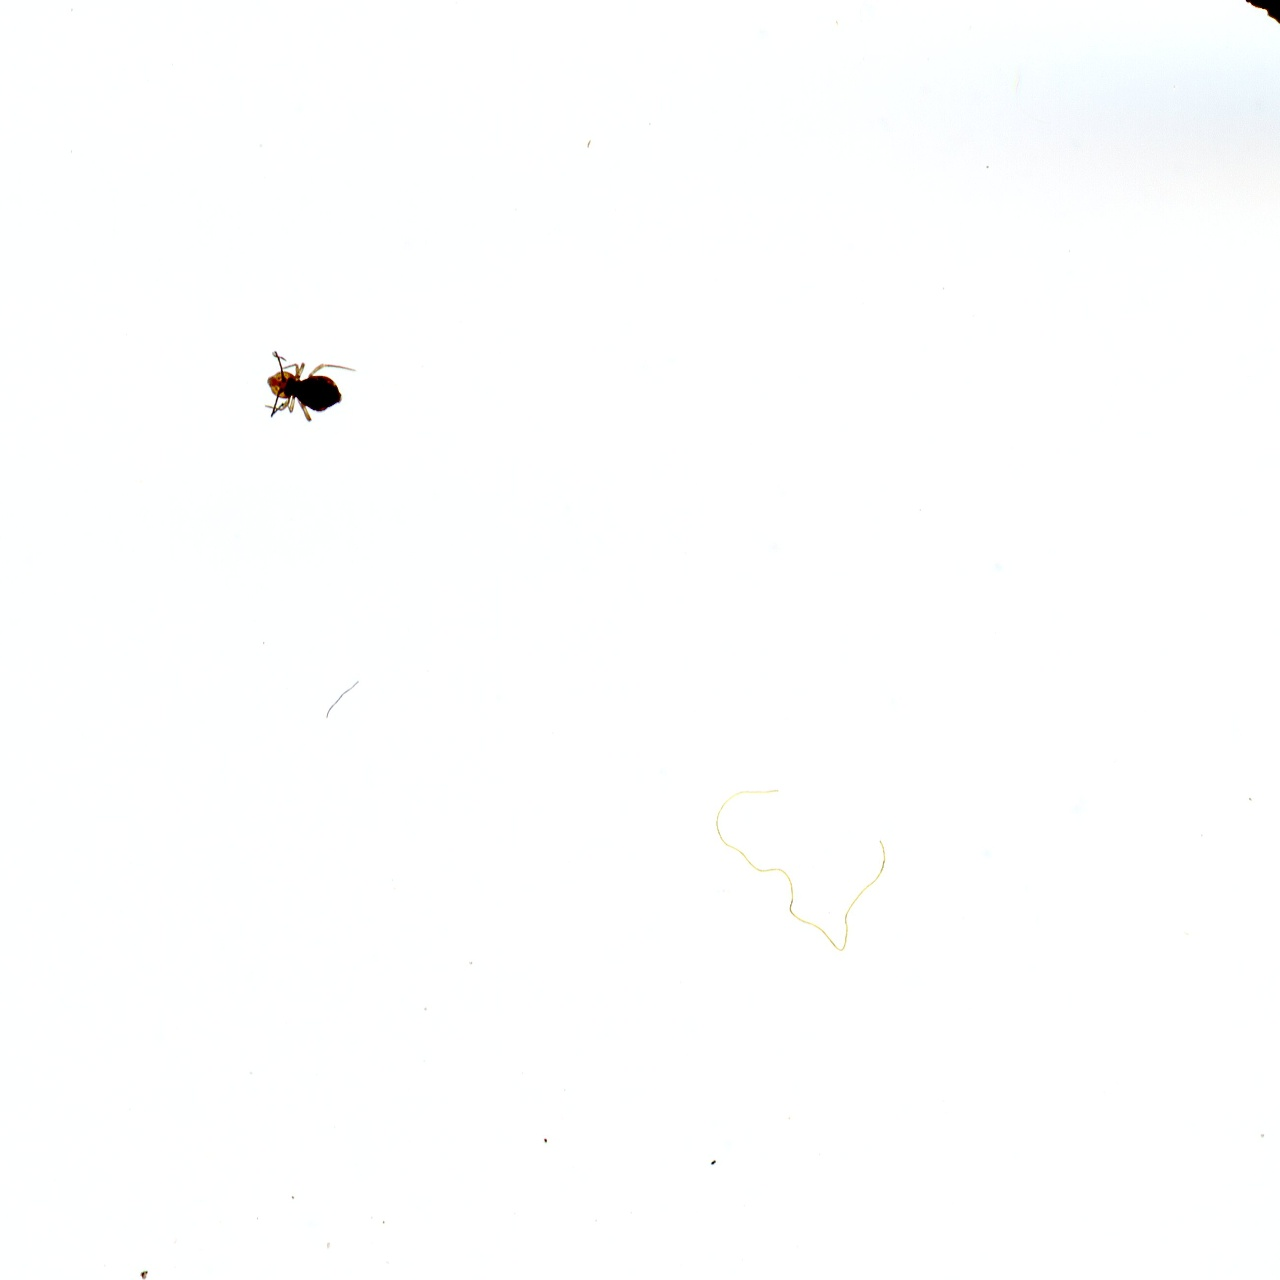arthropod: (253, 346, 361, 430)
